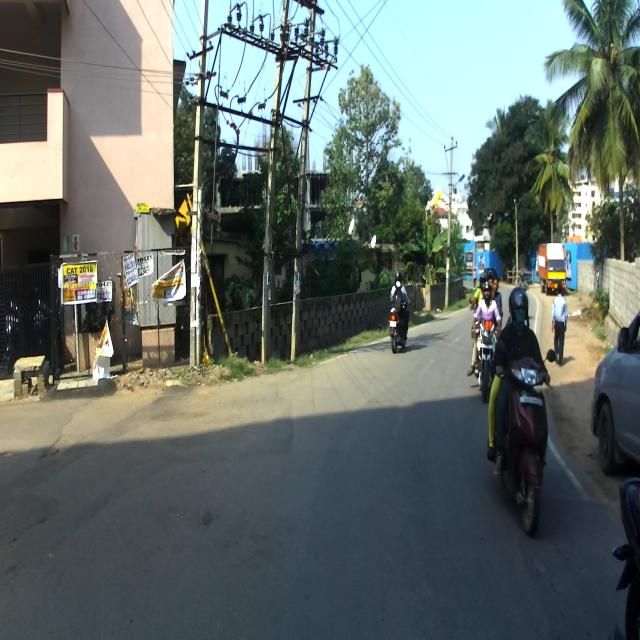electric pole ahead at: (256, 0, 315, 376), (188, 16, 214, 378)
motorcycle ahead at: (486, 352, 558, 538)
